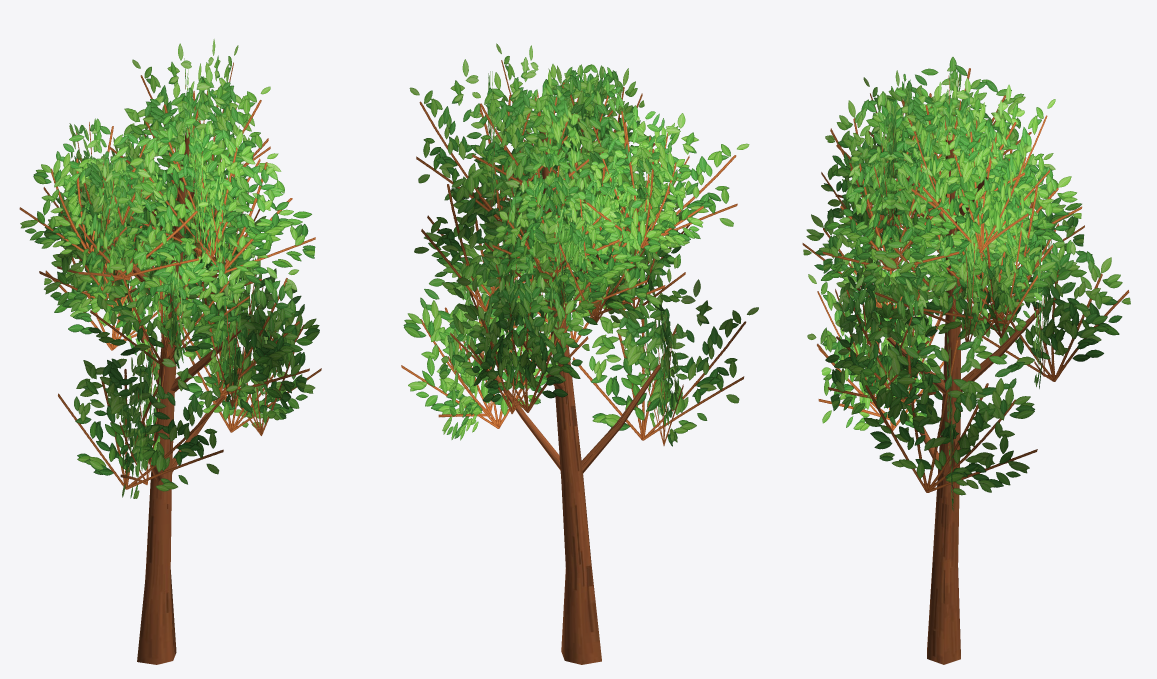
Rendered from leafcard_tall_tree.glb.
3 views of the same model, side by side, from view 1: azimuth 30°, elevation 25°; view 2: azimuth 150°, elevation 25°; view 3: azimuth 270°, elevation 25° (orthographic). The views are drawn at different scales.
Parts seen in each view (by area): view 1: leafcard_tall_tree; view 2: leafcard_tall_tree; view 3: leafcard_tall_tree.
Boxes of the visible parts, x1,y1,x2,y2 form: leafcard_tall_tree: (19, 39, 321, 664); leafcard_tall_tree: (401, 43, 758, 664); leafcard_tall_tree: (802, 57, 1130, 664).
Bounding box in the file's own units: 3.72 × 6.42 × 3.3.
2 materials, 2 textured.
